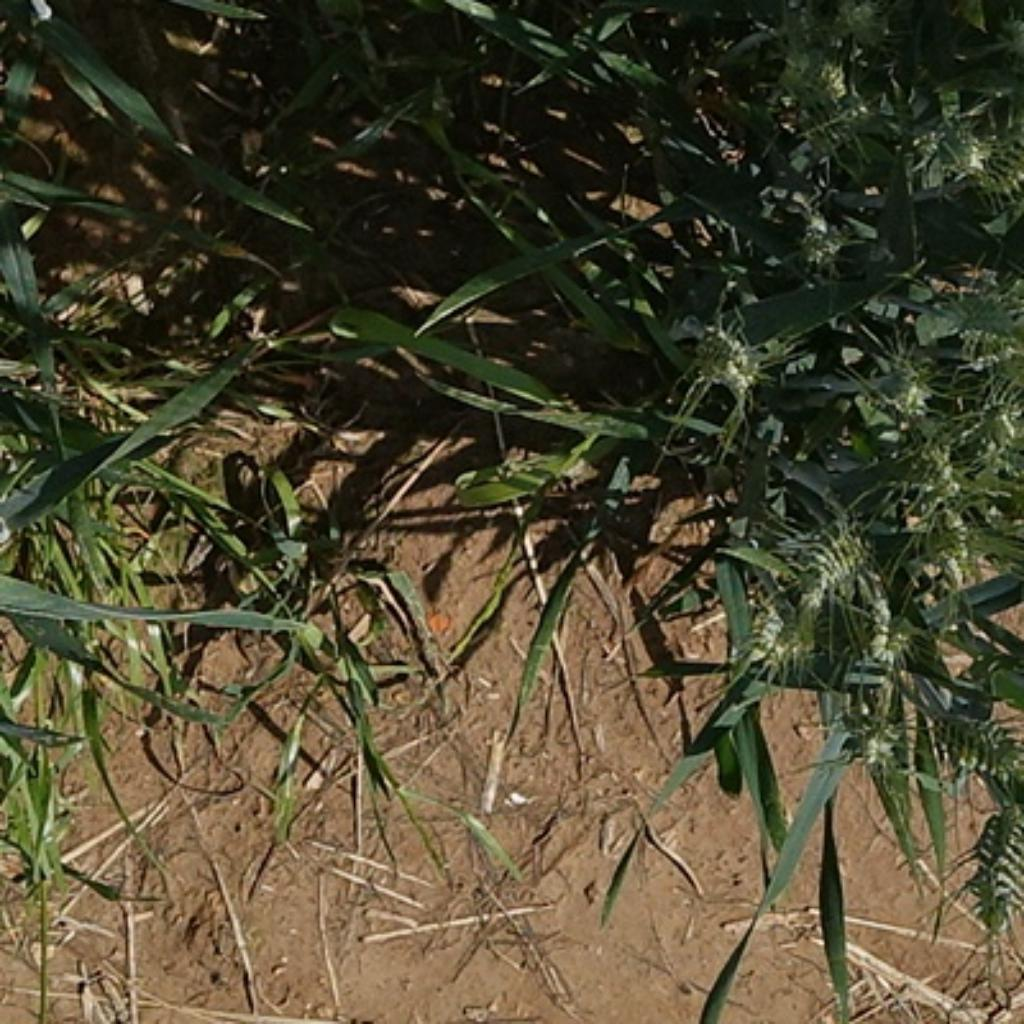0-0: (776, 0, 855, 132), (923, 274, 1024, 361), (931, 133, 1024, 222), (839, 686, 919, 788), (965, 796, 1024, 919), (739, 599, 832, 675), (796, 524, 867, 619), (934, 711, 1024, 785), (847, 599, 936, 673), (919, 506, 998, 586), (679, 319, 761, 390), (890, 430, 972, 501), (602, 131, 669, 213), (870, 334, 926, 427), (914, 109, 981, 186), (975, 371, 1024, 455), (796, 209, 847, 266)
